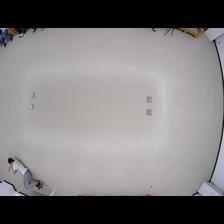fall: (7, 157, 42, 192)
